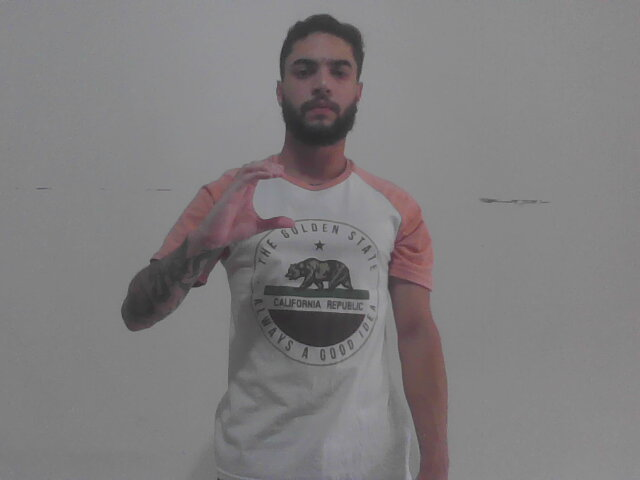c: (195, 156, 300, 253)
